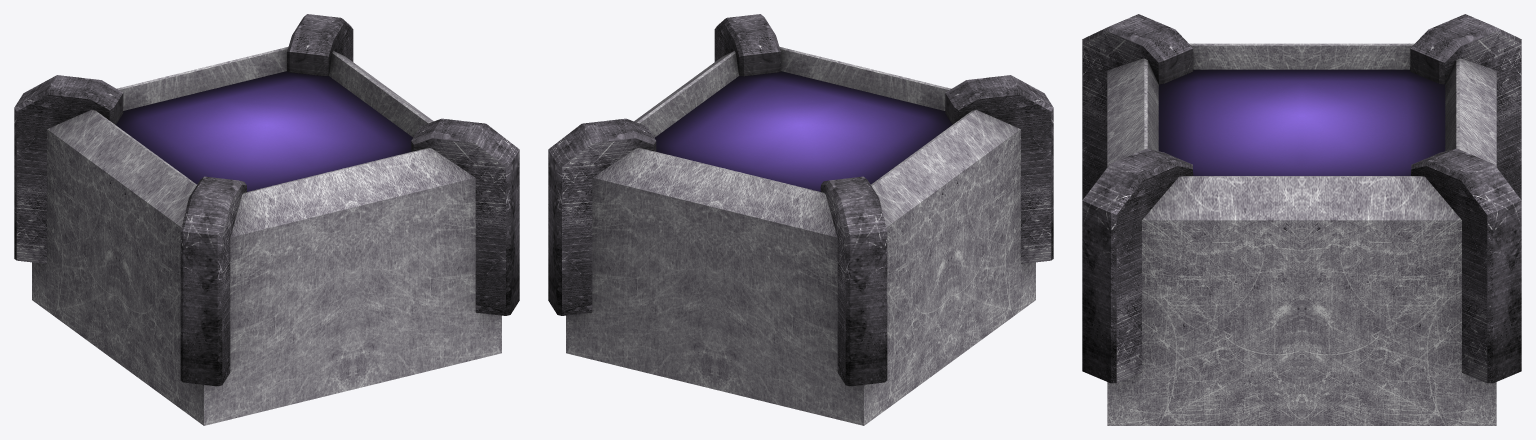
Rendered from Gui_Health_Monitor.fbx.
The picture shows the model from 3 angles, left to right: view 1: azimuth 30°, elevation 25°; view 2: azimuth 150°, elevation 25°; view 3: azimuth 270°, elevation 25°; orthographic projection. The views are drawn at different scales.
Visible parts, largest first — view 1: GUI_Health_Monitor; view 2: GUI_Health_Monitor; view 3: GUI_Health_Monitor.
Part boxes in pixels (left/top/right/bottom): GUI_Health_Monitor: left=14, top=14, right=519, bottom=425; GUI_Health_Monitor: left=548, top=14, right=1053, bottom=425; GUI_Health_Monitor: left=1082, top=14, right=1521, bottom=425.
Bounding box in the file's own units: 56.44 × 35.25 × 56.45.
